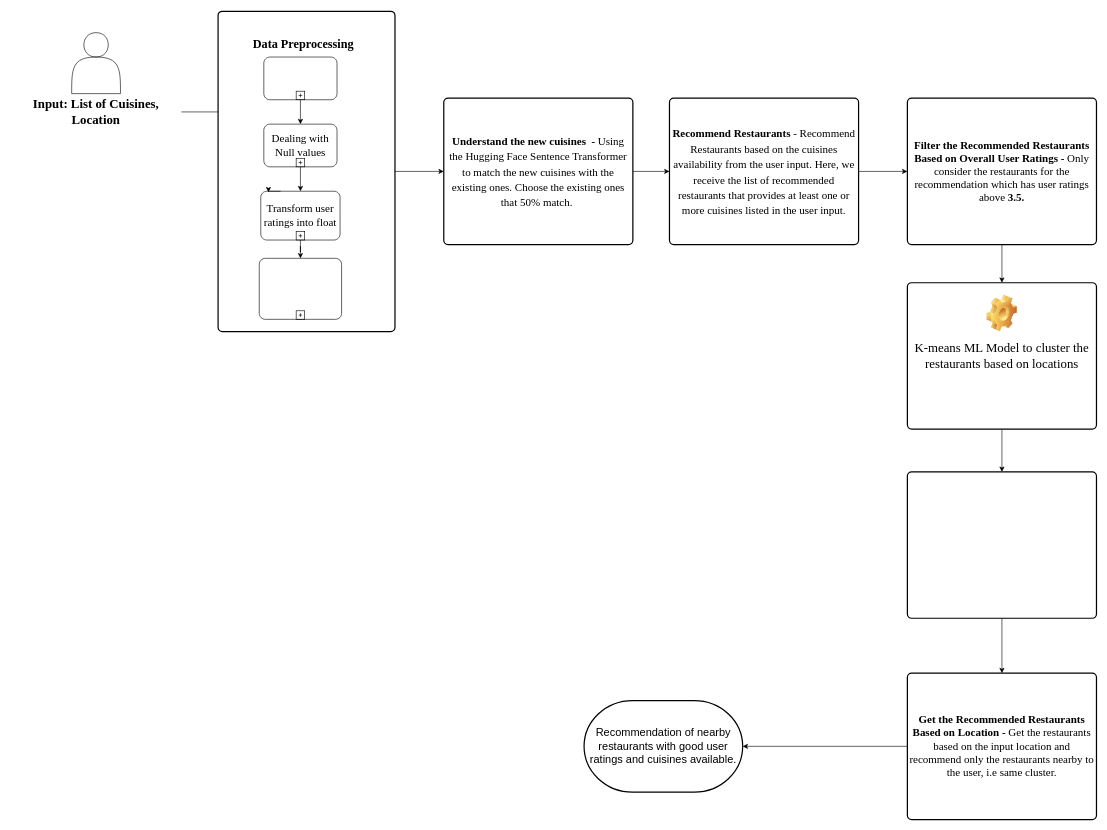
This 1107x830 diagram has some shape labels left out. Here are the shapes that lost their labels. From the top down, the centre of each, then its label:
At point (95, 63): "USER".
At point (300, 78): "Dropping duplicate rows".
At point (300, 288): "Calculate average user ratings for each restaurant".
At point (1001, 545): "Finding the optimal K size cluster using the Elbow method".
